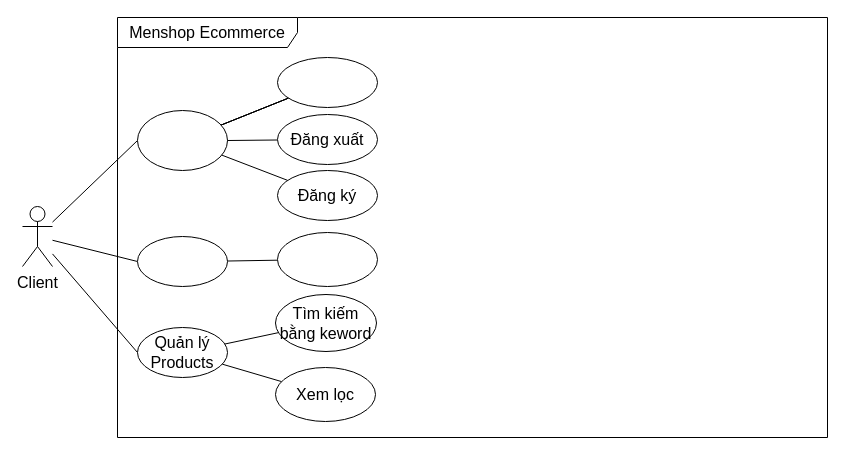
The diagram is 845 pixels wide and 455 high, and some of its shapes have lost their labels. The shapes that lost their labels are listed below. From the top down, each one's box as (x1, y1, x2, y2) in pixels, then its label:
(276, 56, 378, 108): Đăng nhập
(136, 110, 228, 170): Quản lý Access
(136, 236, 228, 286): Quản lý Shops
(276, 232, 378, 286): Xem và lọc
